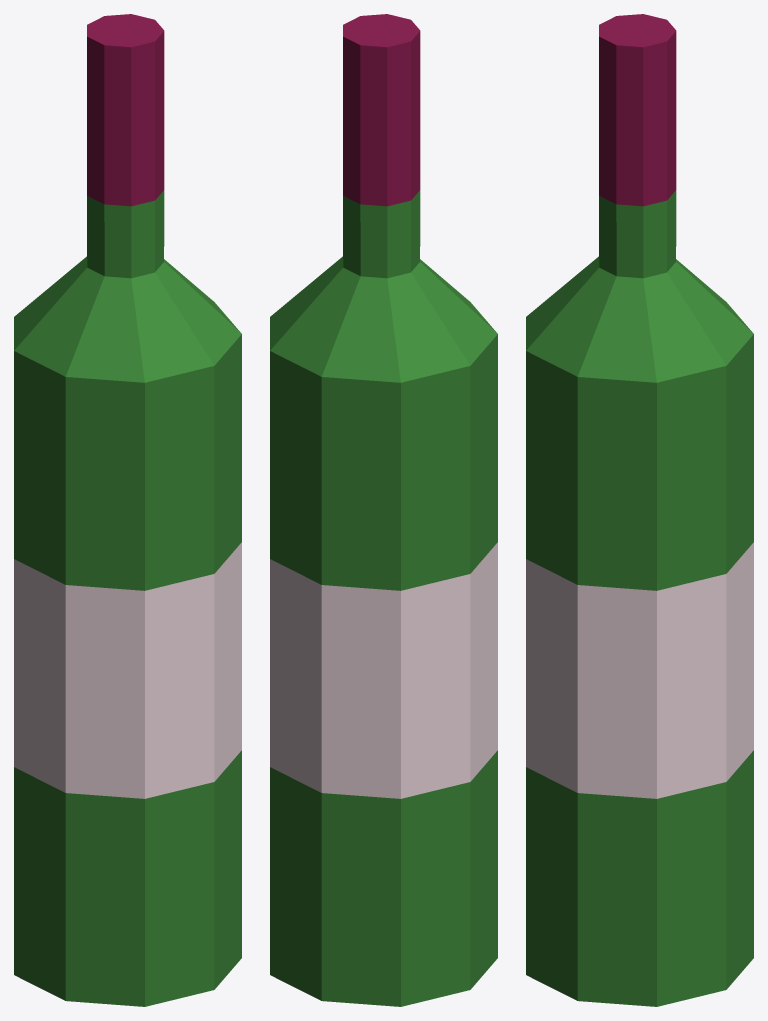
The model's file is bottlewine3.fbx.
The picture shows the model from 3 angles, left to right: view 1: azimuth 30°, elevation 25°; view 2: azimuth 150°, elevation 25°; view 3: azimuth 270°, elevation 25°; orthographic projection.
Parts seen in each view (by area): view 1: Cylinder.001; view 2: Cylinder.001; view 3: Cylinder.001.
Boxes of the visible parts, <box> form: Cylinder.001: <box>14,14,241,1006</box>; Cylinder.001: <box>270,14,497,1006</box>; Cylinder.001: <box>526,14,753,1006</box>.
Size of the model in its own units: 16.13 by 71.32 by 15.89.
